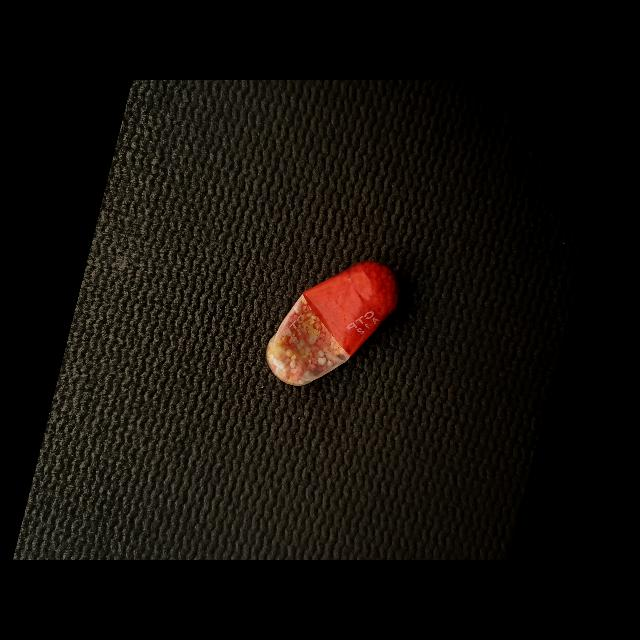Defective Capsule: (266, 261, 399, 386)
